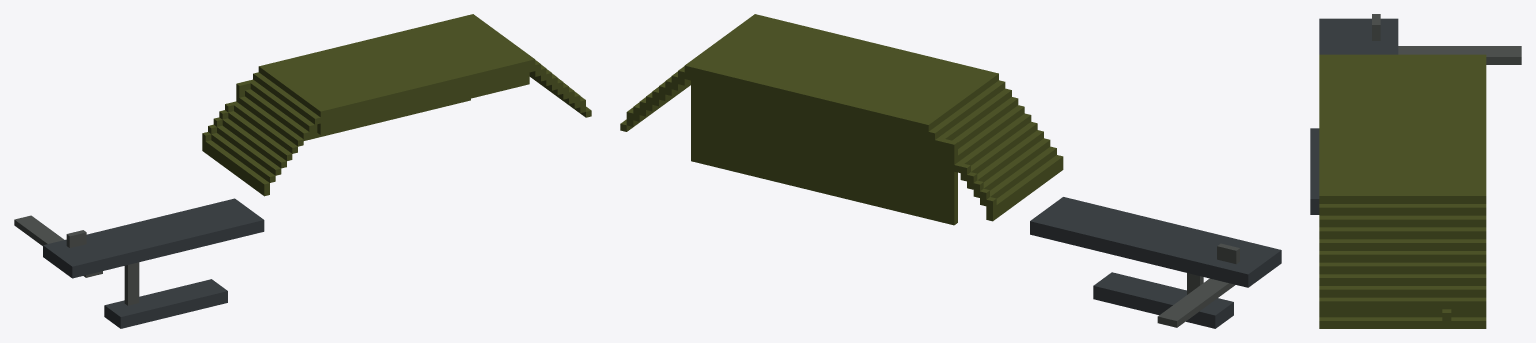
Rendered from military_ambulance_wing.glb.
3 renders of one model, left to right at view 1: azimuth 30°, elevation 25°; view 2: azimuth 150°, elevation 25°; view 3: azimuth 270°, elevation 25°, orthographic. The views are drawn at different scales.
Visible parts, largest first — view 1: body:compound; view 2: body:compound; view 3: body:compound.
Part boxes in pixels (bbox=[...]): body:compound: bbox=[14, 14, 591, 328]; body:compound: bbox=[620, 14, 1281, 328]; body:compound: bbox=[1310, 14, 1521, 328].
Bounding box in the file's own units: 2.88 × 0.875 × 0.75.
